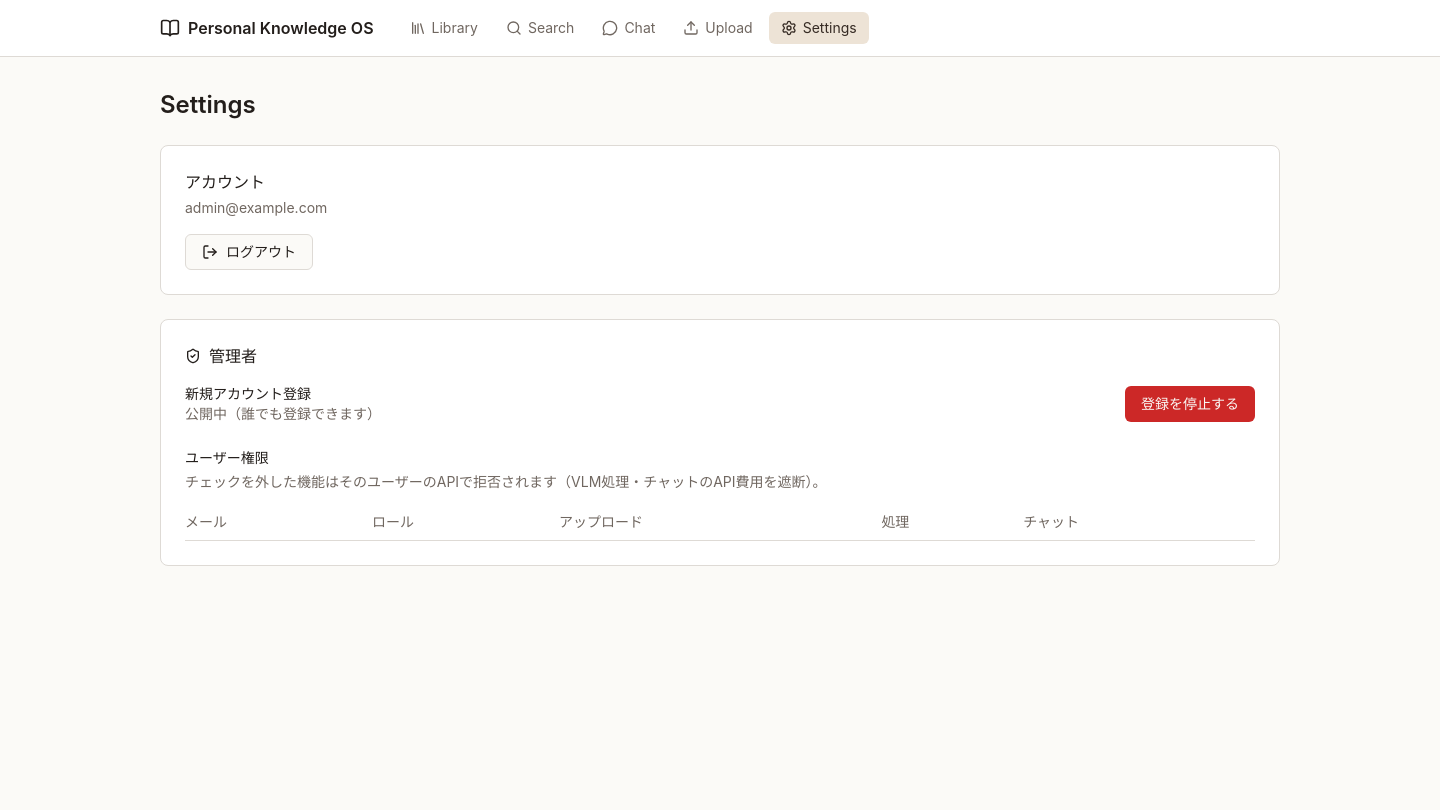
Scenario: SettingsPage 管理者パネル › 登録停止ボタンでPUT /admin/settingsを呼び表示が切り替わる
The image size is (1440, 810).
What coordinates should you click on to do the following:
click the button "登録を停止する"
I would click on:
 (1190, 404)
Its box is [1125,386,1255,422].
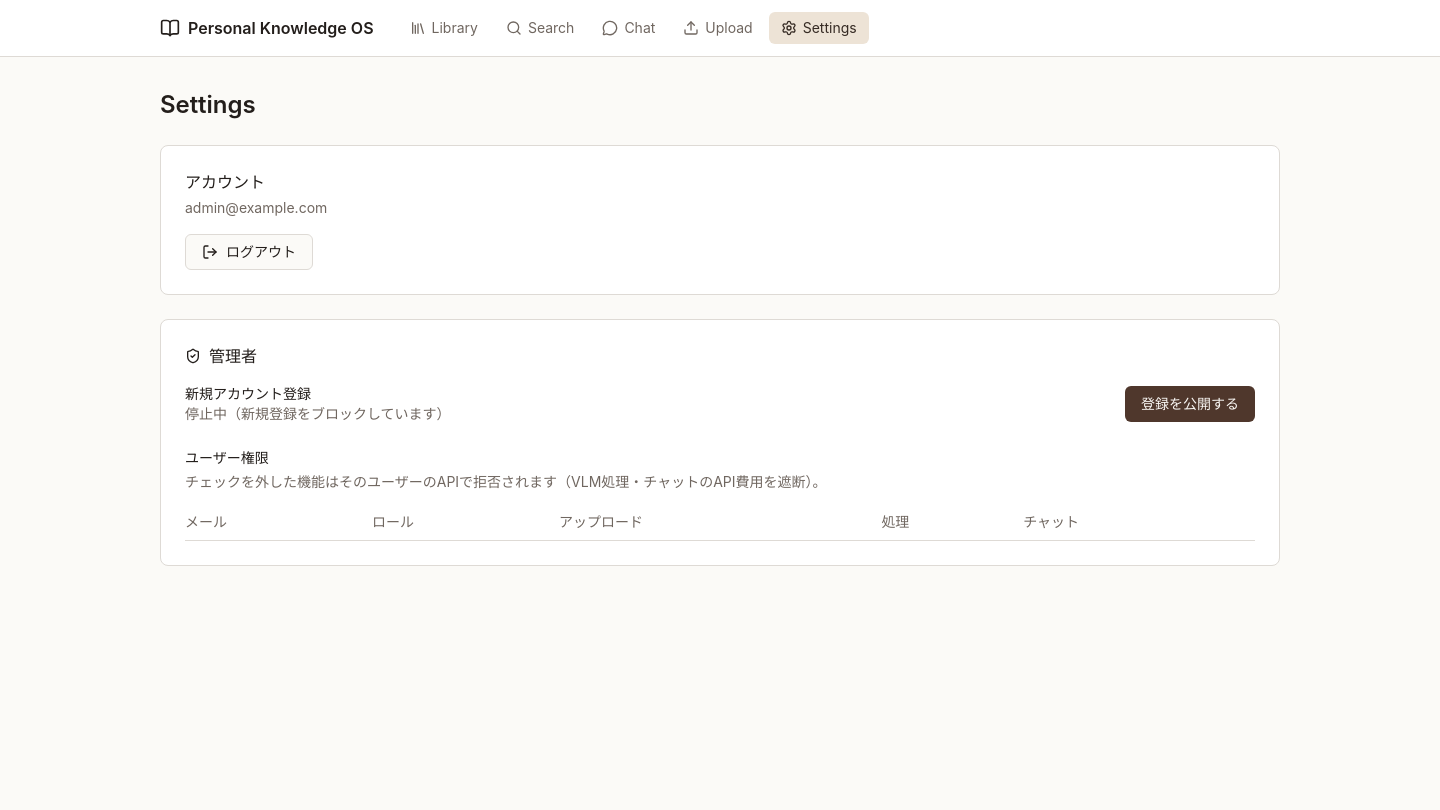
Expected: the text "停止中（新規登録をブロックしています）" is shown, [185,404,451,424]
